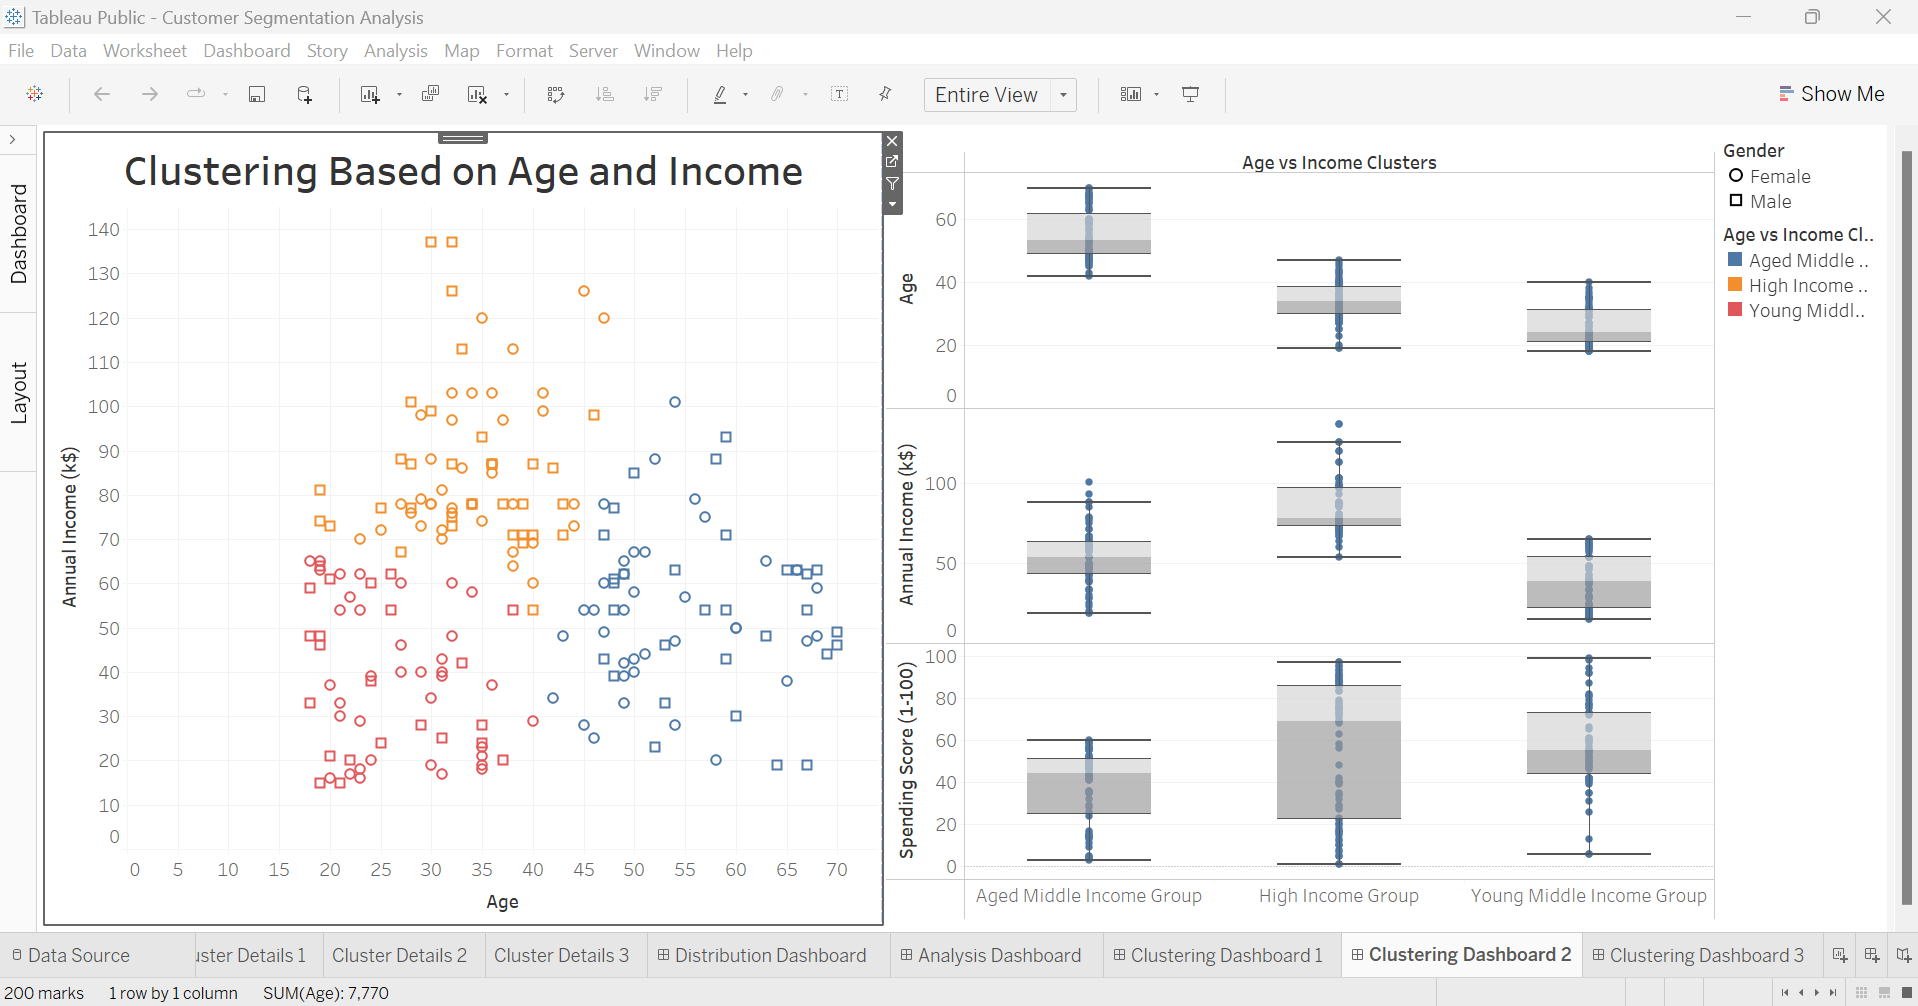

Layout of this report page (visuals, bound fields, positions):
{"tool":"tableau","page":{"name":"Clustering Dashboard 2","canvas":[1000,1000],"units":"permille","ordinal":2},"visuals":[{"type":"worksheet","title":"Analysis 2","mark":"Automatic","rows":["Annual Income (k$)"],"cols":["Age"],"box":[4.3,9.9,452.4,980.2]},{"type":"worksheet","title":"Cluster Details 2","mark":"Circle","rows":["Age","Annual Income (k$)","Spending Score (1-100)"],"box":[456.7,9.9,452.4,980.2]},{"type":"legend","title":"Analysis 2","param":"[federated.03849fk1oqn5g5192y5811f0itua].[none:Gender:nk]","box":[909.2,9.9,86.5,104.1]},{"type":"legend","title":"Analysis 2","param":"[federated.03849fk1oqn5g5192y5811f0itua].[Age & Annual Income (k$) (clusters)]","box":[909.2,114,86.5,135.1]}]}

Visuals, with their boxes on the dashboard's canvas, which has no fixed pixel size, in thousandths of its width and height (x1, y1, x2, y2). These are canvas units, not pixel positions in the 1918x1006 screenshot, which may show the page scaled, cropped or inside an application window:
"Analysis 2" worksheet: detection(4, 10, 457, 990)
"Cluster Details 2" worksheet (Circle marks): detection(457, 10, 909, 990)
"Analysis 2" legend: detection(909, 10, 996, 114)
"Analysis 2" legend: detection(909, 114, 996, 249)
